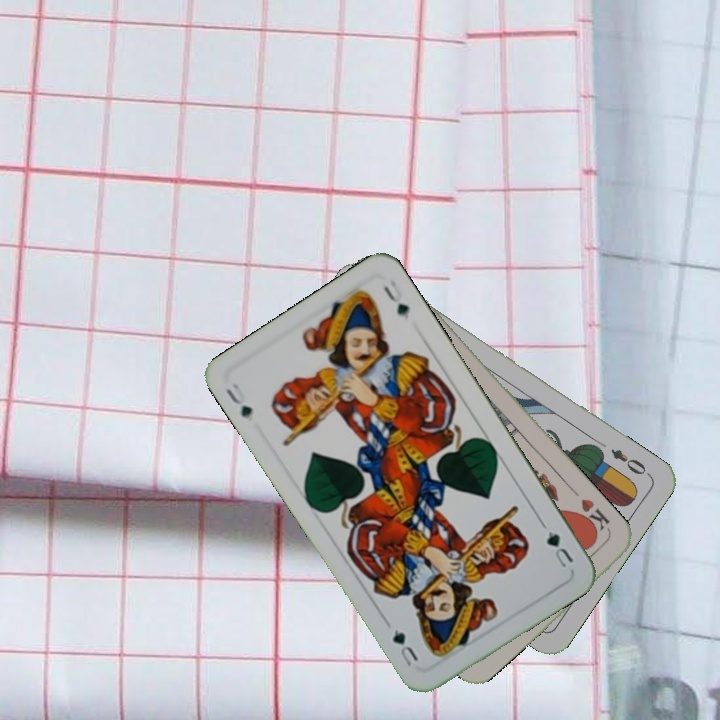EO: (606, 445, 653, 479)
GU: (542, 527, 577, 571), (222, 379, 255, 421)
HK: (572, 494, 614, 539)
